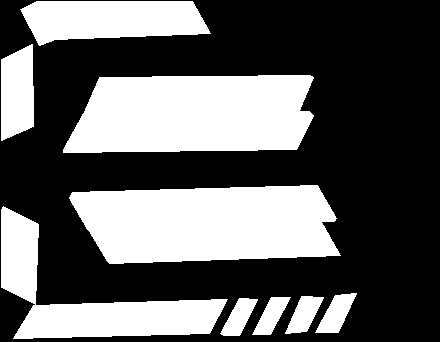parkingspot: (69, 185, 336, 229), (86, 218, 340, 263), (63, 111, 313, 152), (82, 75, 313, 116), (20, 1, 210, 45), (13, 299, 227, 338), (1, 206, 38, 304), (1, 44, 33, 140), (315, 293, 356, 332), (252, 297, 290, 334), (285, 296, 323, 333), (220, 298, 257, 335)
